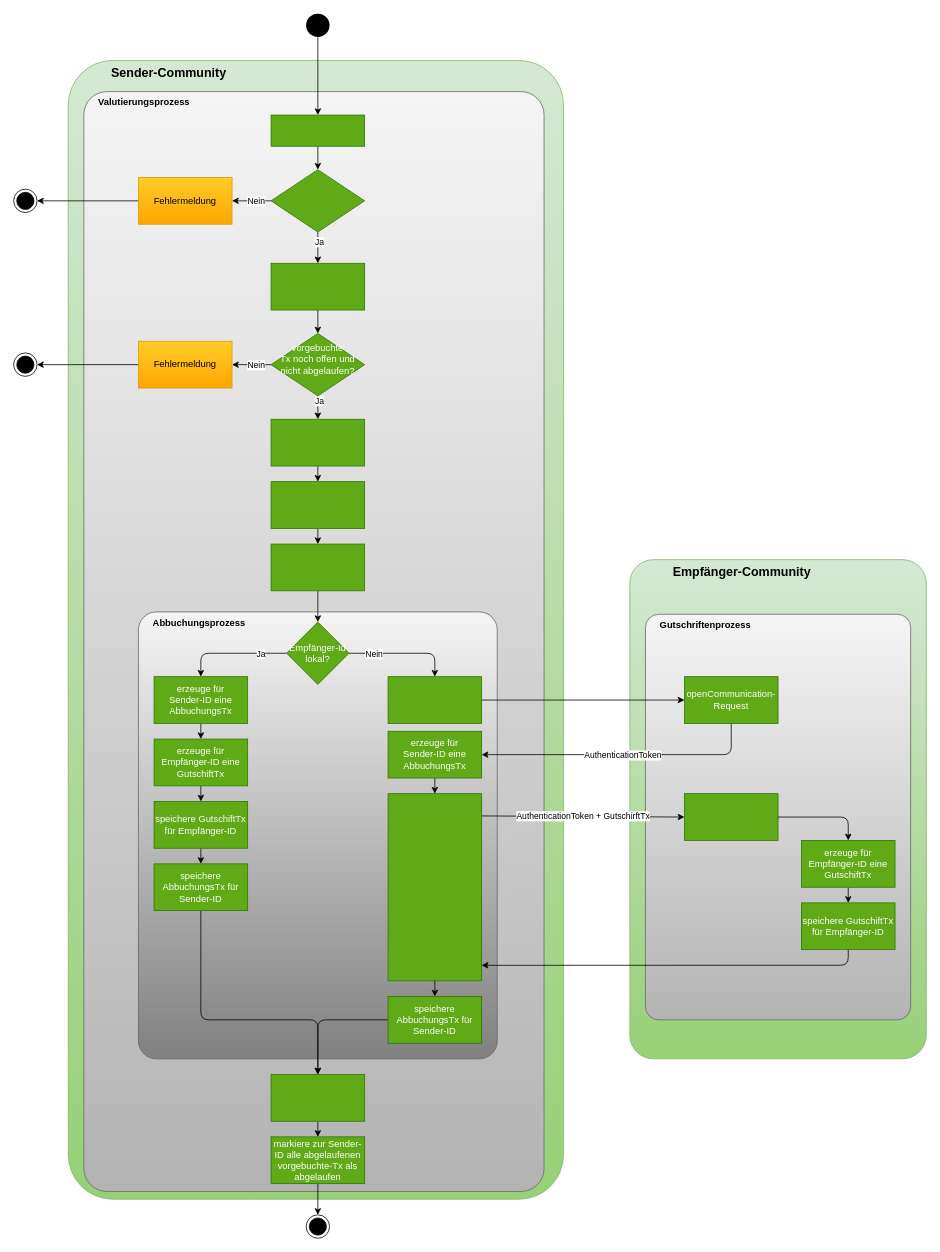
The diagram is 940 pixels wide and 1252 high, and some of its shapes have lost their labels. Here are the shapes that lost their labels. From the top down, the centre of each, then its label:
At (317,130): "prüfe Eingabe-Parameter".
At (317,200): "alle Input-Werte vorhanden?".
At (317,286): "lese per Sender-ID und Tx-Key die vorgebuchte Transaktion aus DB".
At (317,442): "initialisiere AbbuchungTx-Objekt mit Input-Parameter".
At (317,504): "berechne Vergänglichkeit auf Kontostand seit letzer Transaktion".
At (317,567): "setze Vergänglichkeit und Betrag in AbbuchungsTx-Objekt".
At (434,699): "eröffne Kommunikation mit Empfänger-Community".
At (731,816): "credit-Request".
At (434,887): "sende an Empfänger-ID eine GutschiftTx und warte auf credit-Confirmation".
At (317,1097): "markiere die vorgebuchte Tx als valutiert".
